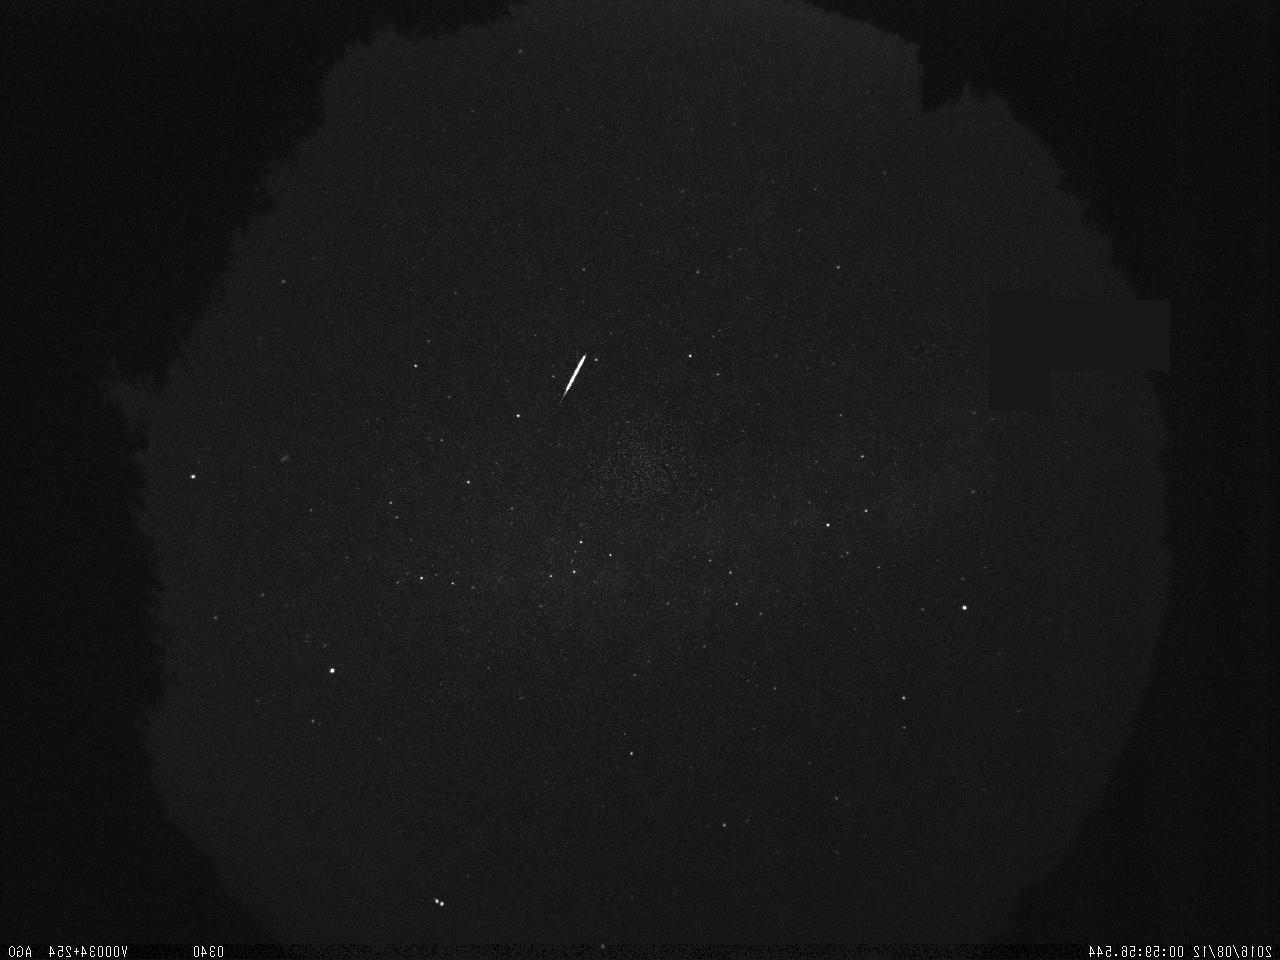meteor: (552, 347, 596, 409)
